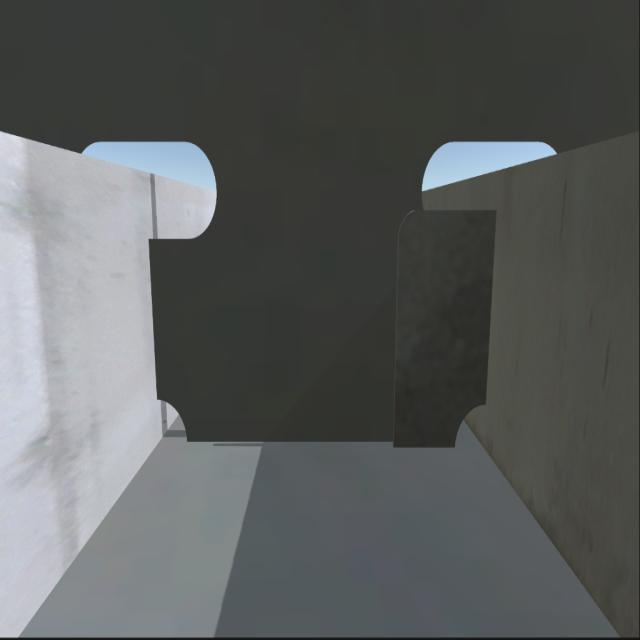fillet_hole: (450, 396, 488, 449), (152, 400, 184, 443)
fillet_yong_jeop_jang: (193, 440, 451, 448)
longi_yong_jeop_jang: (482, 214, 498, 393), (146, 241, 156, 400)
plate_CP05: (393, 209, 495, 448)
